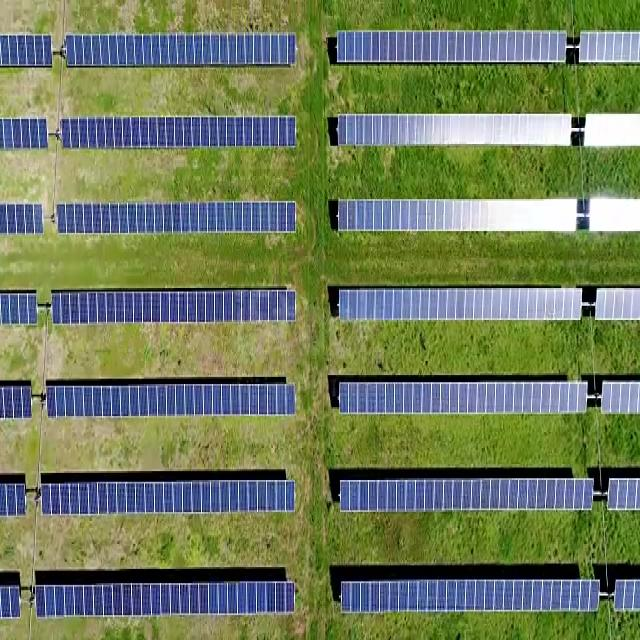Solar-panels: (343, 579, 601, 615), (38, 582, 295, 617), (49, 382, 295, 418), (338, 112, 573, 148), (340, 288, 583, 322), (338, 199, 579, 233), (42, 484, 296, 516), (342, 383, 588, 416), (344, 481, 596, 513), (54, 293, 298, 323), (340, 33, 567, 65), (60, 205, 297, 235), (68, 36, 296, 65), (64, 118, 298, 146)
